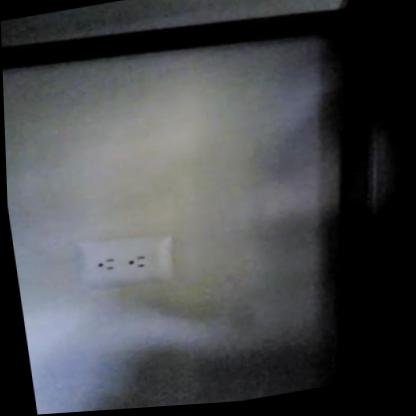OUTLET: (70, 230, 176, 296)
